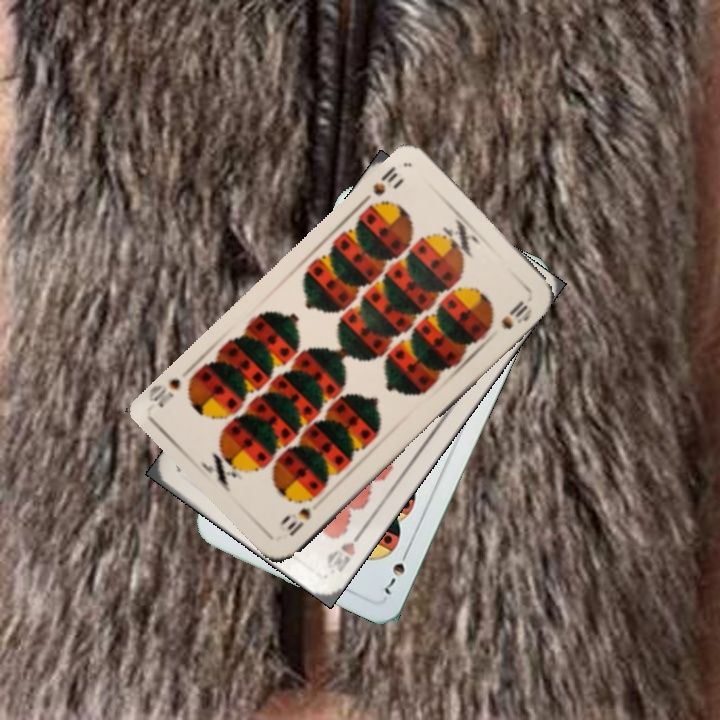H10: (322, 525, 366, 577)
S10: (282, 503, 314, 540), (368, 162, 400, 198)
S7: (380, 544, 413, 597)
